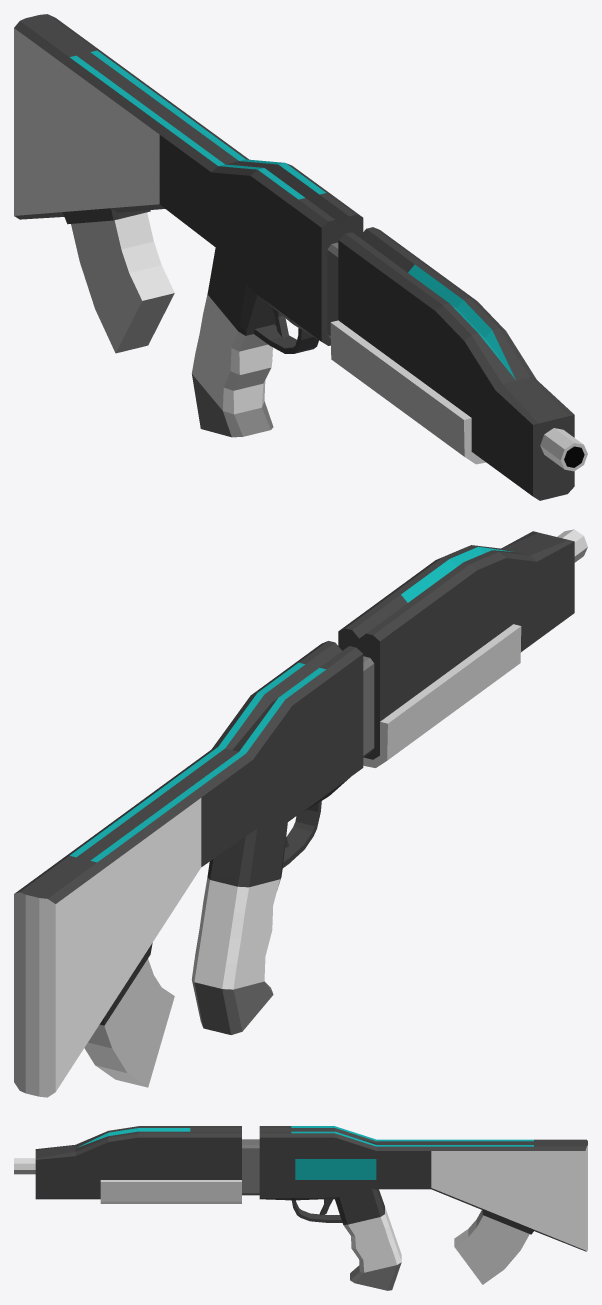
The model's file is AssaultRifle.fbx.
3 views of the same model, one above another, from view 1: azimuth 30°, elevation 25°; view 2: azimuth 150°, elevation 25°; view 3: azimuth 270°, elevation 25° (orthographic). The views are drawn at different scales.
Visible parts, largest first — view 1: AR; view 2: AR; view 3: AR.
Part boxes in pixels (bbox=[...]): AR: bbox=[14, 14, 587, 500]; AR: bbox=[14, 529, 587, 1097]; AR: bbox=[14, 1126, 587, 1290].
Size of the model in its own units: 4.89 by 24.08 by 79.86.
